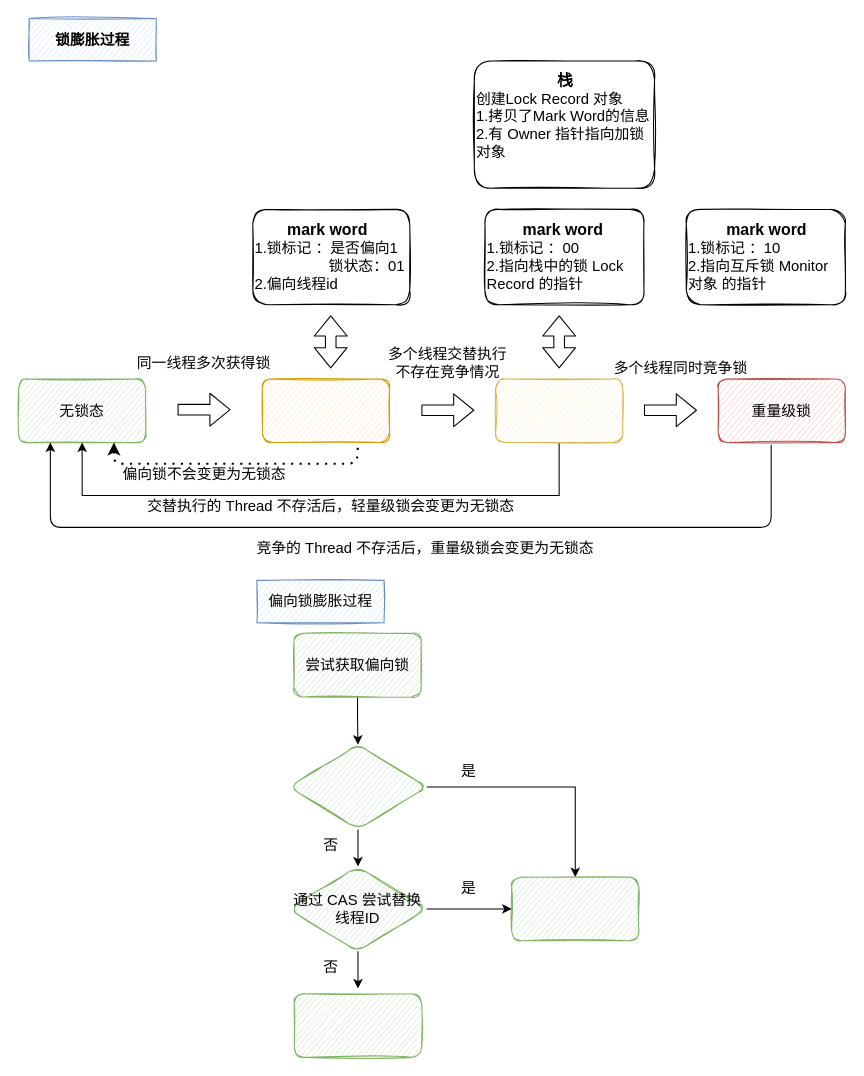
Some shapes in this 864 by 1076 pixel diagram are drawn without their labels. The box of each missing label's shape, as (x1, y1, x2, y2) in pixels:
偏向锁: (261, 378, 390, 443)
线程id是否相等: (288, 744, 427, 829)
获取到偏向锁: (511, 876, 639, 941)
认为存在竞争环境 升级为轻量级锁: (293, 993, 422, 1057)
轻量级锁: (494, 378, 623, 443)
